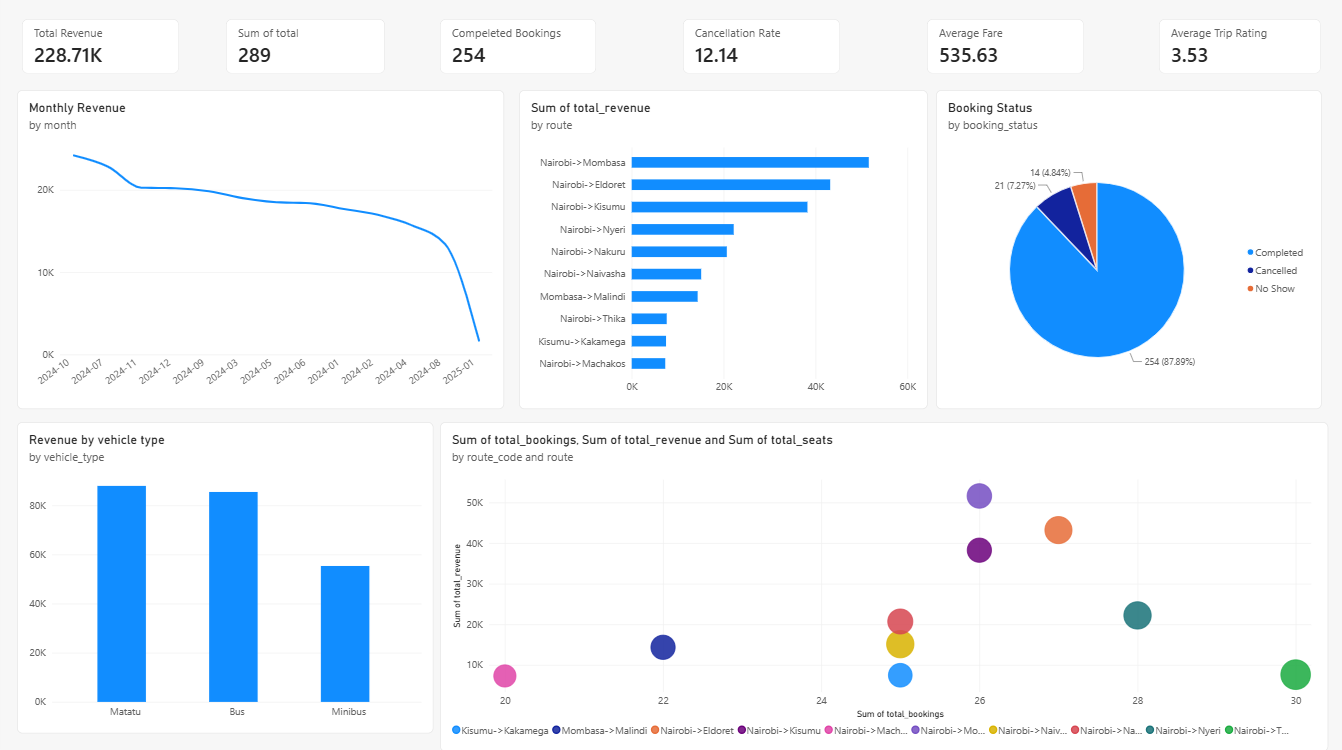

Layout of this report page (visuals, bound fields, positions):
{"tool":"powerbi","page":{"name":"Page 1","canvas":[1920,1080],"ordinal":0},"visuals":[{"type":"cardVisual","fields":{"Data":["Sum(clean v_monthly_revenue.revenue)"]},"box":[31.2,32.8,224.8,78],"z":0},{"type":"cardVisual","fields":{"Data":["Sum(clean v_cancellation_analysis.total)"]},"box":[323.1,32.8,227.9,78],"z":1000},{"type":"cardVisual","fields":{"Data":["Avg(clean v_cancellation_analysis.cancel_rate_pct)"]},"box":[975.6,32.8,224.8,78],"z":2000},{"type":"cardVisual","fields":{"Data":["Avg(clean v_route_performance.avg_fare)"]},"box":[1324.7,33.3,224.8,78],"z":3000},{"type":"cardVisual","fields":{"Data":["Avg(clean v_route_performance.avg_trip_rating)"]},"box":[1655.9,33.3,231,78],"z":4000},{"type":"cardVisual","fields":{"Data":["Sum(clean v_cancellation_analysis.completed)"]},"box":[629.1,32.8,223.2,78],"z":5000},{"type":"lineChart","fields":{"Category":["clean v_monthly_revenue.month"],"Y":["Sum(clean v_monthly_revenue.revenue)"]},"box":[25,134.2,696.2,455.8],"z":6000},{"type":"clusteredBarChart","fields":{"Category":["clean v_route_performance.route"],"Y":["Sum(clean v_route_performance.total_revenue)"]},"box":[741.5,134.2,583.8,455.8],"z":7000},{"type":"pieChart","fields":{"Category":["clean bookings.booking_status"],"Y":["CountNonNull(clean bookings.booking_id)"]},"box":[1336.7,134.3,550.6,456.2],"z":8000},{"type":"clusteredColumnChart","fields":{"Category":["clean v_clean_trips.vehicle_type"],"Y":["Sum(clean v_clean_trips.total_fare)"]},"box":[25,608.8,594.7,444.9],"z":9000},{"type":"scatterChart","fields":{"X":["Sum(clean v_route_performance.total_bookings)"],"Y":["Sum(clean v_route_performance.total_revenue)"],"Size":["Sum(clean v_route_performance.total_seats)"],"Category":["clean v_route_performance.route_code"],"Series":["clean v_route_performance.route"]},"box":[629.1,608.8,1269.1,471.4],"z":10000}]}

Visuals, with their boxes in screenshot pixels (x1, y1, x2, y2), scaled from the page's 1920x1080 canvas onto the 1342x750 screenshot:
cardVisual - Sum(clean v_monthly_revenue.revenue): rect(22, 23, 179, 77)
cardVisual - Sum(clean v_cancellation_analysis.total): rect(226, 23, 385, 77)
cardVisual - Avg(clean v_cancellation_analysis.cancel_rate_pct): rect(682, 23, 839, 77)
cardVisual - Avg(clean v_route_performance.avg_fare): rect(926, 23, 1083, 77)
cardVisual - Avg(clean v_route_performance.avg_trip_rating): rect(1157, 23, 1319, 77)
cardVisual - Sum(clean v_cancellation_analysis.completed): rect(440, 23, 596, 77)
lineChart - clean v_monthly_revenue.month x Sum(clean v_monthly_revenue.revenue): rect(17, 93, 504, 410)
clusteredBarChart - clean v_route_performance.route x Sum(clean v_route_performance.total_revenue): rect(518, 93, 926, 410)
pieChart - clean bookings.booking_status x CountNonNull(clean bookings.booking_id): rect(934, 93, 1319, 410)
clusteredColumnChart - clean v_clean_trips.vehicle_type x Sum(clean v_clean_trips.total_fare): rect(17, 423, 433, 732)
scatterChart - Sum(clean v_route_performance.total_bookings) x Sum(clean v_route_performance.total_revenue): rect(440, 423, 1327, 749)
